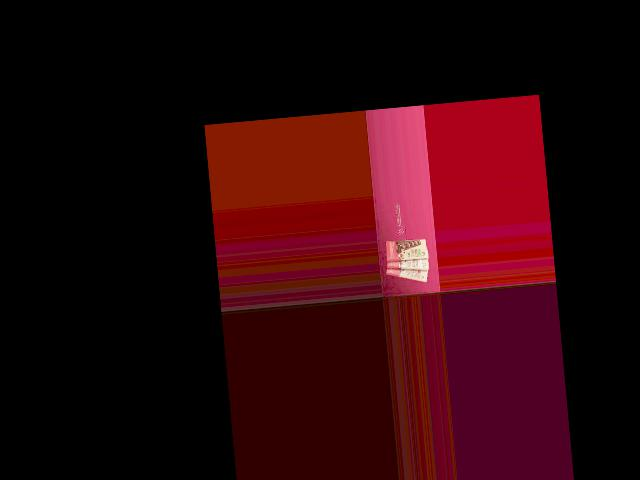chocolate: (383, 260, 431, 285)
